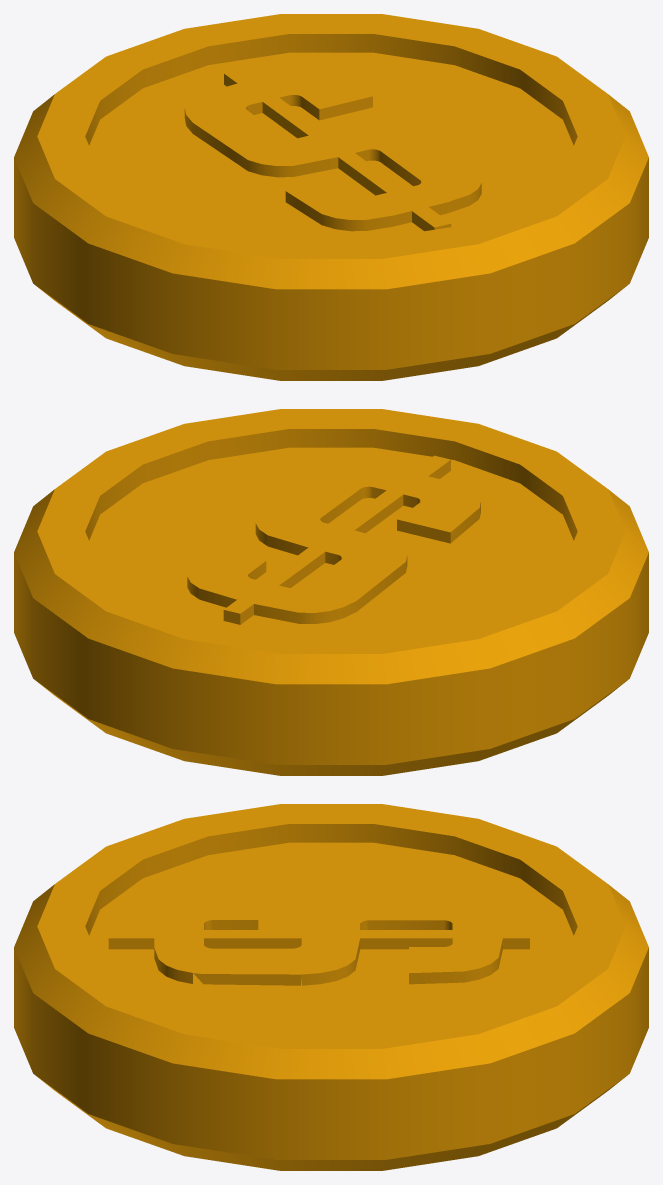
File: coin_new.glb
3 views of the same model, one above another, from view 1: azimuth 30°, elevation 25°; view 2: azimuth 150°, elevation 25°; view 3: azimuth 270°, elevation 25° (orthographic).
Parts seen in each view (by area): view 1: Coin_New; view 2: Coin_New; view 3: Coin_New.
Part boxes in pixels (left/top/right/bottom): Coin_New: left=14, top=14, right=648, bottom=380; Coin_New: left=14, top=409, right=648, bottom=775; Coin_New: left=14, top=804, right=648, bottom=1170.
Size of the model in its own units: 1.97 by 0.424 by 2.
